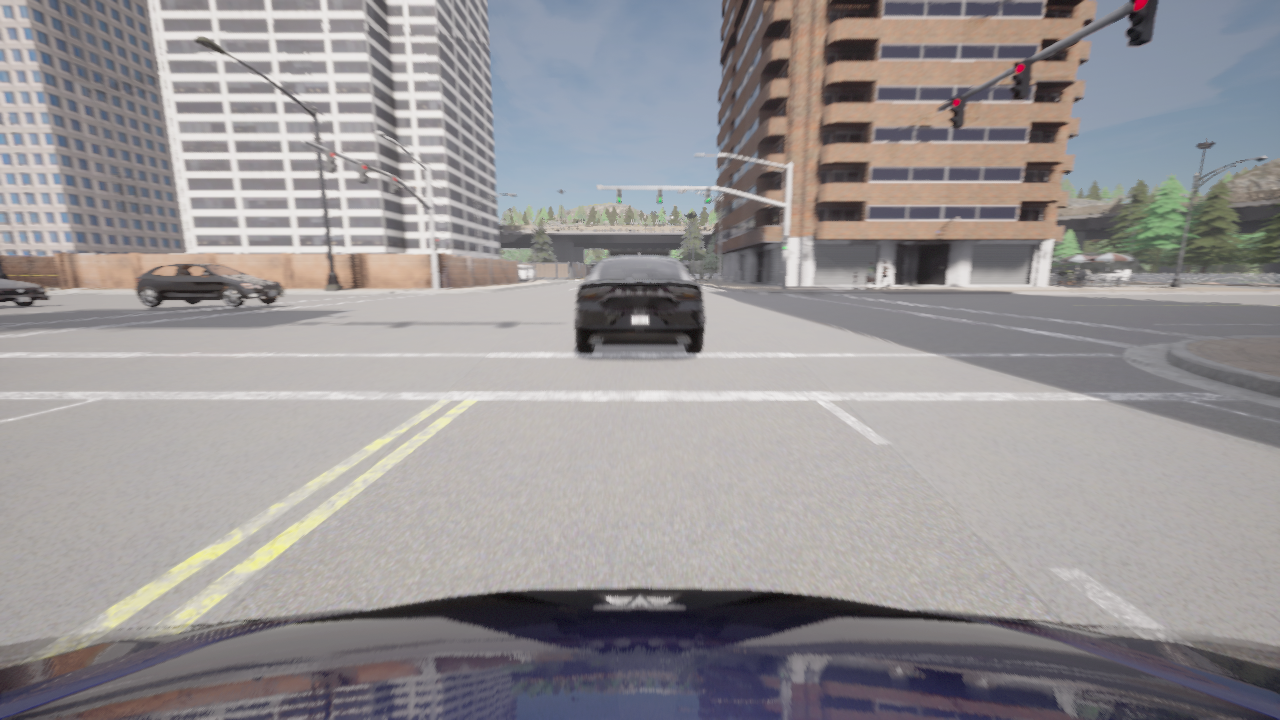cyclist: (0, 588, 1279, 719), (575, 248, 704, 352), (519, 262, 535, 281), (519, 264, 529, 281)
pedestrian: (864, 262, 875, 289), (879, 261, 889, 289), (851, 271, 861, 289)
